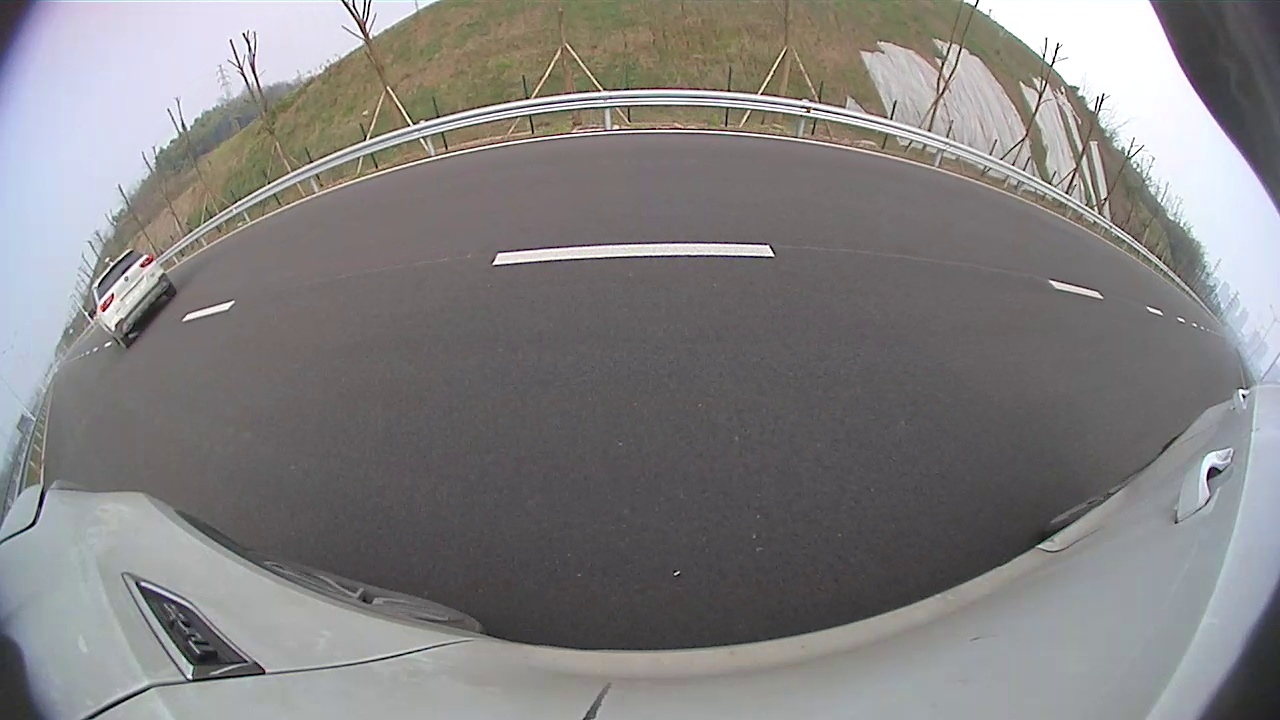car: (90, 247, 177, 348)
